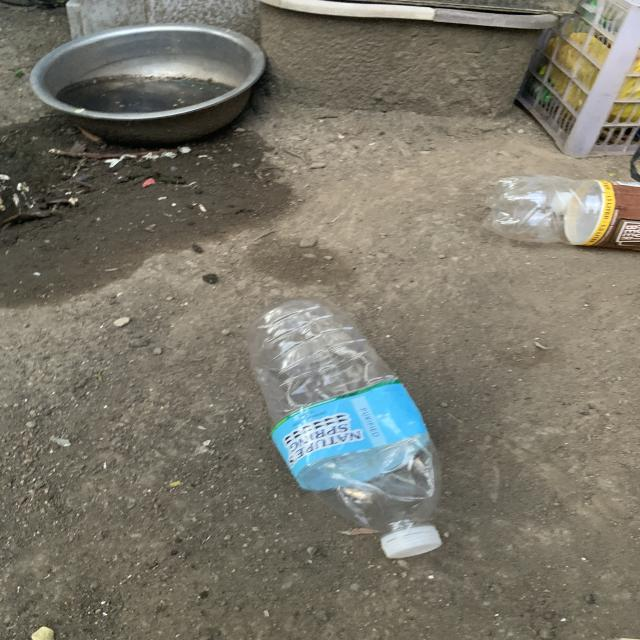Bottle: (248, 299, 441, 558)
